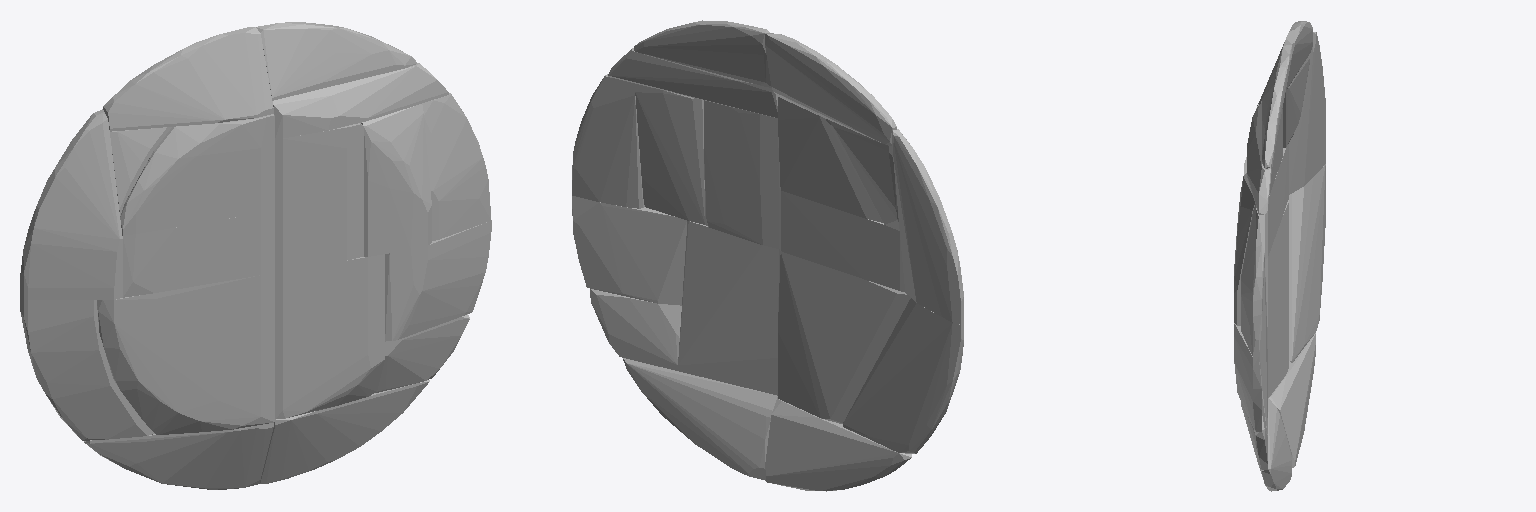
The robot description file, URDF, robot "root":
<robot name="root">
  <link name="link_ycb~dinner_plate_convex_piece_0">
    <inertial>
      <origin rpy="0 0 0" xyz="0 0 0"/>
      <mass value="2.18E-02"/>
      <inertia ixx="1.47E-04" ixy="-5.38E-06" ixz="4.67E-05" iyy="1.69E-04" iyz="-1.16E-05" izz="2.44E-05"/>
    </inertial>
    <visual>
      <origin rpy="0 0 0" xyz="0 0 0"/>
      <geometry>
        <mesh filename="ycb~dinner_plate_convex_piece_0.obj" scale="1.0000E+00 1.0000E+00 1.0000E+00"/>
      </geometry>
      <material name="">
        <color rgba="7.50E-01 7.50E-01 7.50E-01 1"/>
      </material>
    </visual>
    <collision>
      <origin rpy="0 0 0" xyz="0 0 0"/>
      <geometry>
        <mesh filename="ycb~dinner_plate_convex_piece_0.obj" scale="1.0000E+00 1.0000E+00 1.0000E+00"/>
      </geometry>
    </collision>
  </link>
  <link name="link_ycb~dinner_plate_convex_piece_1">
    <inertial>
      <origin rpy="0 0 0" xyz="0 0 0"/>
      <mass value="2.12E-02"/>
      <inertia ixx="1.41E-04" ixy="-1.43E-06" ixz="-5.04E-05" iyy="1.66E-04" iyz="2.51E-06" izz="2.61E-05"/>
    </inertial>
    <visual>
      <origin rpy="0 0 0" xyz="0 0 0"/>
      <geometry>
        <mesh filename="ycb~dinner_plate_convex_piece_1.obj" scale="1.0000E+00 1.0000E+00 1.0000E+00"/>
      </geometry>
      <material name="">
        <color rgba="7.50E-01 7.50E-01 7.50E-01 1"/>
      </material>
    </visual>
    <collision>
      <origin rpy="0 0 0" xyz="0 0 0"/>
      <geometry>
        <mesh filename="ycb~dinner_plate_convex_piece_1.obj" scale="1.0000E+00 1.0000E+00 1.0000E+00"/>
      </geometry>
    </collision>
  </link>
  <joint name="link_ycb~dinner_plate_convex_piece_1_joint" type="fixed">
    <origin rpy="0 0 0" xyz="0 0 0"/>
    <parent link="link_ycb~dinner_plate_convex_piece_0"/>
    <child link="link_ycb~dinner_plate_convex_piece_1"/>
  </joint>
  <link name="link_ycb~dinner_plate_convex_piece_2">
    <inertial>
      <origin rpy="0 0 0" xyz="0 0 0"/>
      <mass value="2.62E-02"/>
      <inertia ixx="4.08E-05" ixy="-2.86E-05" ixz="-6.51E-05" iyy="2.06E-04" iyz="1.18E-05" izz="1.75E-04"/>
    </inertial>
    <visual>
      <origin rpy="0 0 0" xyz="0 0 0"/>
      <geometry>
        <mesh filename="ycb~dinner_plate_convex_piece_2.obj" scale="1.0000E+00 1.0000E+00 1.0000E+00"/>
      </geometry>
      <material name="">
        <color rgba="7.50E-01 7.50E-01 7.50E-01 1"/>
      </material>
    </visual>
    <collision>
      <origin rpy="0 0 0" xyz="0 0 0"/>
      <geometry>
        <mesh filename="ycb~dinner_plate_convex_piece_2.obj" scale="1.0000E+00 1.0000E+00 1.0000E+00"/>
      </geometry>
    </collision>
  </link>
  <joint name="link_ycb~dinner_plate_convex_piece_2_joint" type="fixed">
    <origin rpy="0 0 0" xyz="0 0 0"/>
    <parent link="link_ycb~dinner_plate_convex_piece_1"/>
    <child link="link_ycb~dinner_plate_convex_piece_2"/>
  </joint>
  <link name="link_ycb~dinner_plate_convex_piece_3">
    <inertial>
      <origin rpy="0 0 0" xyz="0 0 0"/>
      <mass value="5.39E-02"/>
      <inertia ixx="7.76E-05" ixy="-1.19E-06" ixz="5.06E-05" iyy="1.48E-04" iyz="1.86E-06" izz="7.14E-05"/>
    </inertial>
    <visual>
      <origin rpy="0 0 0" xyz="0 0 0"/>
      <geometry>
        <mesh filename="ycb~dinner_plate_convex_piece_3.obj" scale="1.0000E+00 1.0000E+00 1.0000E+00"/>
      </geometry>
      <material name="">
        <color rgba="7.50E-01 7.50E-01 7.50E-01 1"/>
      </material>
    </visual>
    <collision>
      <origin rpy="0 0 0" xyz="0 0 0"/>
      <geometry>
        <mesh filename="ycb~dinner_plate_convex_piece_3.obj" scale="1.0000E+00 1.0000E+00 1.0000E+00"/>
      </geometry>
    </collision>
  </link>
  <joint name="link_ycb~dinner_plate_convex_piece_3_joint" type="fixed">
    <origin rpy="0 0 0" xyz="0 0 0"/>
    <parent link="link_ycb~dinner_plate_convex_piece_2"/>
    <child link="link_ycb~dinner_plate_convex_piece_3"/>
  </joint>
  <link name="link_ycb~dinner_plate_convex_piece_4">
    <inertial>
      <origin rpy="0 0 0" xyz="0 0 0"/>
      <mass value="2.97E-02"/>
      <inertia ixx="5.00E-05" ixy="-3.03E-05" ixz="7.08E-05" iyy="2.14E-04" iyz="-1.27E-05" izz="1.75E-04"/>
    </inertial>
    <visual>
      <origin rpy="0 0 0" xyz="0 0 0"/>
      <geometry>
        <mesh filename="ycb~dinner_plate_convex_piece_4.obj" scale="1.0000E+00 1.0000E+00 1.0000E+00"/>
      </geometry>
      <material name="">
        <color rgba="7.50E-01 7.50E-01 7.50E-01 1"/>
      </material>
    </visual>
    <collision>
      <origin rpy="0 0 0" xyz="0 0 0"/>
      <geometry>
        <mesh filename="ycb~dinner_plate_convex_piece_4.obj" scale="1.0000E+00 1.0000E+00 1.0000E+00"/>
      </geometry>
    </collision>
  </link>
  <joint name="link_ycb~dinner_plate_convex_piece_4_joint" type="fixed">
    <origin rpy="0 0 0" xyz="0 0 0"/>
    <parent link="link_ycb~dinner_plate_convex_piece_3"/>
    <child link="link_ycb~dinner_plate_convex_piece_4"/>
  </joint>
  <link name="link_ycb~dinner_plate_convex_piece_5">
    <inertial>
      <origin rpy="0 0 0" xyz="0 0 0"/>
      <mass value="4.11E-02"/>
      <inertia ixx="6.72E-05" ixy="-1.09E-05" ixz="-3.99E-05" iyy="1.03E-04" iyz="1.25E-05" izz="4.29E-05"/>
    </inertial>
    <visual>
      <origin rpy="0 0 0" xyz="0 0 0"/>
      <geometry>
        <mesh filename="ycb~dinner_plate_convex_piece_5.obj" scale="1.0000E+00 1.0000E+00 1.0000E+00"/>
      </geometry>
      <material name="">
        <color rgba="7.50E-01 7.50E-01 7.50E-01 1"/>
      </material>
    </visual>
    <collision>
      <origin rpy="0 0 0" xyz="0 0 0"/>
      <geometry>
        <mesh filename="ycb~dinner_plate_convex_piece_5.obj" scale="1.0000E+00 1.0000E+00 1.0000E+00"/>
      </geometry>
    </collision>
  </link>
  <joint name="link_ycb~dinner_plate_convex_piece_5_joint" type="fixed">
    <origin rpy="0 0 0" xyz="0 0 0"/>
    <parent link="link_ycb~dinner_plate_convex_piece_4"/>
    <child link="link_ycb~dinner_plate_convex_piece_5"/>
  </joint>
  <link name="link_ycb~dinner_plate_convex_piece_6">
    <inertial>
      <origin rpy="0 0 0" xyz="0 0 0"/>
      <mass value="2.08E-02"/>
      <inertia ixx="1.59E-04" ixy="-4.57E-06" ixz="-4.62E-05" iyy="1.78E-04" iyz="1.12E-05" izz="2.15E-05"/>
    </inertial>
    <visual>
      <origin rpy="0 0 0" xyz="0 0 0"/>
      <geometry>
        <mesh filename="ycb~dinner_plate_convex_piece_6.obj" scale="1.0000E+00 1.0000E+00 1.0000E+00"/>
      </geometry>
      <material name="">
        <color rgba="7.50E-01 7.50E-01 7.50E-01 1"/>
      </material>
    </visual>
    <collision>
      <origin rpy="0 0 0" xyz="0 0 0"/>
      <geometry>
        <mesh filename="ycb~dinner_plate_convex_piece_6.obj" scale="1.0000E+00 1.0000E+00 1.0000E+00"/>
      </geometry>
    </collision>
  </link>
  <joint name="link_ycb~dinner_plate_convex_piece_6_joint" type="fixed">
    <origin rpy="0 0 0" xyz="0 0 0"/>
    <parent link="link_ycb~dinner_plate_convex_piece_5"/>
    <child link="link_ycb~dinner_plate_convex_piece_6"/>
  </joint>
  <link name="link_ycb~dinner_plate_convex_piece_7">
    <inertial>
      <origin rpy="0 0 0" xyz="0 0 0"/>
      <mass value="2.24E-02"/>
      <inertia ixx="3.16E-05" ixy="-5.01E-06" ixz="1.57E-05" iyy="4.32E-05" iyz="-6.66E-06" izz="1.55E-05"/>
    </inertial>
    <visual>
      <origin rpy="0 0 0" xyz="0 0 0"/>
      <geometry>
        <mesh filename="ycb~dinner_plate_convex_piece_7.obj" scale="1.0000E+00 1.0000E+00 1.0000E+00"/>
      </geometry>
      <material name="">
        <color rgba="7.50E-01 7.50E-01 7.50E-01 1"/>
      </material>
    </visual>
    <collision>
      <origin rpy="0 0 0" xyz="0 0 0"/>
      <geometry>
        <mesh filename="ycb~dinner_plate_convex_piece_7.obj" scale="1.0000E+00 1.0000E+00 1.0000E+00"/>
      </geometry>
    </collision>
  </link>
  <joint name="link_ycb~dinner_plate_convex_piece_7_joint" type="fixed">
    <origin rpy="0 0 0" xyz="0 0 0"/>
    <parent link="link_ycb~dinner_plate_convex_piece_6"/>
    <child link="link_ycb~dinner_plate_convex_piece_7"/>
  </joint>
  <link name="link_ycb~dinner_plate_convex_piece_8">
    <inertial>
      <origin rpy="0 0 0" xyz="0 0 0"/>
      <mass value="1.45E-02"/>
      <inertia ixx="7.18E-05" ixy="-3.48E-06" ixz="3.93E-05" iyy="9.97E-05" iyz="-6.27E-06" izz="2.91E-05"/>
    </inertial>
    <visual>
      <origin rpy="0 0 0" xyz="0 0 0"/>
      <geometry>
        <mesh filename="ycb~dinner_plate_convex_piece_8.obj" scale="1.0000E+00 1.0000E+00 1.0000E+00"/>
      </geometry>
      <material name="">
        <color rgba="7.50E-01 7.50E-01 7.50E-01 1"/>
      </material>
    </visual>
    <collision>
      <origin rpy="0 0 0" xyz="0 0 0"/>
      <geometry>
        <mesh filename="ycb~dinner_plate_convex_piece_8.obj" scale="1.0000E+00 1.0000E+00 1.0000E+00"/>
      </geometry>
    </collision>
  </link>
  <joint name="link_ycb~dinner_plate_convex_piece_8_joint" type="fixed">
    <origin rpy="0 0 0" xyz="0 0 0"/>
    <parent link="link_ycb~dinner_plate_convex_piece_7"/>
    <child link="link_ycb~dinner_plate_convex_piece_8"/>
  </joint>
  <link name="link_ycb~dinner_plate_convex_piece_9">
    <inertial>
      <origin rpy="0 0 0" xyz="0 0 0"/>
      <mass value="1.35E-02"/>
      <inertia ixx="1.10E-04" ixy="-4.14E-07" ixz="3.32E-05" iyy="1.24E-04" iyz="-1.78E-07" izz="1.43E-05"/>
    </inertial>
    <visual>
      <origin rpy="0 0 0" xyz="0 0 0"/>
      <geometry>
        <mesh filename="ycb~dinner_plate_convex_piece_9.obj" scale="1.0000E+00 1.0000E+00 1.0000E+00"/>
      </geometry>
      <material name="">
        <color rgba="7.50E-01 7.50E-01 7.50E-01 1"/>
      </material>
    </visual>
    <collision>
      <origin rpy="0 0 0" xyz="0 0 0"/>
      <geometry>
        <mesh filename="ycb~dinner_plate_convex_piece_9.obj" scale="1.0000E+00 1.0000E+00 1.0000E+00"/>
      </geometry>
    </collision>
  </link>
  <joint name="link_ycb~dinner_plate_convex_piece_9_joint" type="fixed">
    <origin rpy="0 0 0" xyz="0 0 0"/>
    <parent link="link_ycb~dinner_plate_convex_piece_8"/>
    <child link="link_ycb~dinner_plate_convex_piece_9"/>
  </joint>
  <link name="link_ycb~dinner_plate_convex_piece_10">
    <inertial>
      <origin rpy="0 0 0" xyz="0 0 0"/>
      <mass value="1.01E-02"/>
      <inertia ixx="2.85E-05" ixy="-5.69E-06" ixz="-3.63E-05" iyy="7.78E-05" iyz="4.32E-06" izz="5.06E-05"/>
    </inertial>
    <visual>
      <origin rpy="0 0 0" xyz="0 0 0"/>
      <geometry>
        <mesh filename="ycb~dinner_plate_convex_piece_10.obj" scale="1.0000E+00 1.0000E+00 1.0000E+00"/>
      </geometry>
      <material name="">
        <color rgba="7.50E-01 7.50E-01 7.50E-01 1"/>
      </material>
    </visual>
    <collision>
      <origin rpy="0 0 0" xyz="0 0 0"/>
      <geometry>
        <mesh filename="ycb~dinner_plate_convex_piece_10.obj" scale="1.0000E+00 1.0000E+00 1.0000E+00"/>
      </geometry>
    </collision>
  </link>
  <joint name="link_ycb~dinner_plate_convex_piece_10_joint" type="fixed">
    <origin rpy="0 0 0" xyz="0 0 0"/>
    <parent link="link_ycb~dinner_plate_convex_piece_9"/>
    <child link="link_ycb~dinner_plate_convex_piece_10"/>
  </joint>
  <link name="link_ycb~dinner_plate_convex_piece_11">
    <inertial>
      <origin rpy="0 0 0" xyz="0 0 0"/>
      <mass value="2.28E-02"/>
      <inertia ixx="1.41E-05" ixy="-1.97E-05" ixz="-3.16E-05" iyy="1.43E-04" iyz="5.07E-06" izz="1.35E-04"/>
    </inertial>
    <visual>
      <origin rpy="0 0 0" xyz="0 0 0"/>
      <geometry>
        <mesh filename="ycb~dinner_plate_convex_piece_11.obj" scale="1.0000E+00 1.0000E+00 1.0000E+00"/>
      </geometry>
      <material name="">
        <color rgba="7.50E-01 7.50E-01 7.50E-01 1"/>
      </material>
    </visual>
    <collision>
      <origin rpy="0 0 0" xyz="0 0 0"/>
      <geometry>
        <mesh filename="ycb~dinner_plate_convex_piece_11.obj" scale="1.0000E+00 1.0000E+00 1.0000E+00"/>
      </geometry>
    </collision>
  </link>
  <joint name="link_ycb~dinner_plate_convex_piece_11_joint" type="fixed">
    <origin rpy="0 0 0" xyz="0 0 0"/>
    <parent link="link_ycb~dinner_plate_convex_piece_10"/>
    <child link="link_ycb~dinner_plate_convex_piece_11"/>
  </joint>
  <link name="link_ycb~dinner_plate_convex_piece_12">
    <inertial>
      <origin rpy="0 0 0" xyz="0 0 0"/>
      <mass value="1.87E-02"/>
      <inertia ixx="5.69E-06" ixy="4.35E-08" ixz="-9.34E-06" iyy="3.23E-05" iyz="-3.72E-07" izz="2.68E-05"/>
    </inertial>
    <visual>
      <origin rpy="0 0 0" xyz="0 0 0"/>
      <geometry>
        <mesh filename="ycb~dinner_plate_convex_piece_12.obj" scale="1.0000E+00 1.0000E+00 1.0000E+00"/>
      </geometry>
      <material name="">
        <color rgba="7.50E-01 7.50E-01 7.50E-01 1"/>
      </material>
    </visual>
    <collision>
      <origin rpy="0 0 0" xyz="0 0 0"/>
      <geometry>
        <mesh filename="ycb~dinner_plate_convex_piece_12.obj" scale="1.0000E+00 1.0000E+00 1.0000E+00"/>
      </geometry>
    </collision>
  </link>
  <joint name="link_ycb~dinner_plate_convex_piece_12_joint" type="fixed">
    <origin rpy="0 0 0" xyz="0 0 0"/>
    <parent link="link_ycb~dinner_plate_convex_piece_11"/>
    <child link="link_ycb~dinner_plate_convex_piece_12"/>
  </joint>
  <link name="link_ycb~dinner_plate_convex_piece_13">
    <inertial>
      <origin rpy="0 0 0" xyz="0 0 0"/>
      <mass value="2.39E-02"/>
      <inertia ixx="3.49E-05" ixy="-1.64E-05" ixz="4.37E-05" iyy="1.11E-04" iyz="-8.53E-06" izz="8.30E-05"/>
    </inertial>
    <visual>
      <origin rpy="0 0 0" xyz="0 0 0"/>
      <geometry>
        <mesh filename="ycb~dinner_plate_convex_piece_13.obj" scale="1.0000E+00 1.0000E+00 1.0000E+00"/>
      </geometry>
      <material name="">
        <color rgba="7.50E-01 7.50E-01 7.50E-01 1"/>
      </material>
    </visual>
    <collision>
      <origin rpy="0 0 0" xyz="0 0 0"/>
      <geometry>
        <mesh filename="ycb~dinner_plate_convex_piece_13.obj" scale="1.0000E+00 1.0000E+00 1.0000E+00"/>
      </geometry>
    </collision>
  </link>
  <joint name="link_ycb~dinner_plate_convex_piece_13_joint" type="fixed">
    <origin rpy="0 0 0" xyz="0 0 0"/>
    <parent link="link_ycb~dinner_plate_convex_piece_12"/>
    <child link="link_ycb~dinner_plate_convex_piece_13"/>
  </joint>
  <link name="link_ycb~dinner_plate_convex_piece_14">
    <inertial>
      <origin rpy="0 0 0" xyz="0 0 0"/>
      <mass value="1.49E-02"/>
      <inertia ixx="1.65E-05" ixy="-1.20E-05" ixz="3.51E-05" iyy="1.26E-04" iyz="-3.56E-06" izz="1.12E-04"/>
    </inertial>
    <visual>
      <origin rpy="0 0 0" xyz="0 0 0"/>
      <geometry>
        <mesh filename="ycb~dinner_plate_convex_piece_14.obj" scale="1.0000E+00 1.0000E+00 1.0000E+00"/>
      </geometry>
      <material name="">
        <color rgba="7.50E-01 7.50E-01 7.50E-01 1"/>
      </material>
    </visual>
    <collision>
      <origin rpy="0 0 0" xyz="0 0 0"/>
      <geometry>
        <mesh filename="ycb~dinner_plate_convex_piece_14.obj" scale="1.0000E+00 1.0000E+00 1.0000E+00"/>
      </geometry>
    </collision>
  </link>
  <joint name="link_ycb~dinner_plate_convex_piece_14_joint" type="fixed">
    <origin rpy="0 0 0" xyz="0 0 0"/>
    <parent link="link_ycb~dinner_plate_convex_piece_13"/>
    <child link="link_ycb~dinner_plate_convex_piece_14"/>
  </joint>
  <link name="link_ycb~dinner_plate_convex_piece_15">
    <inertial>
      <origin rpy="0 0 0" xyz="0 0 0"/>
      <mass value="2.57E-02"/>
      <inertia ixx="6.95E-05" ixy="5.81E-07" ixz="-3.24E-05" iyy="9.32E-05" iyz="-2.66E-06" izz="2.40E-05"/>
    </inertial>
    <visual>
      <origin rpy="0 0 0" xyz="0 0 0"/>
      <geometry>
        <mesh filename="ycb~dinner_plate_convex_piece_15.obj" scale="1.0000E+00 1.0000E+00 1.0000E+00"/>
      </geometry>
      <material name="">
        <color rgba="7.50E-01 7.50E-01 7.50E-01 1"/>
      </material>
    </visual>
    <collision>
      <origin rpy="0 0 0" xyz="0 0 0"/>
      <geometry>
        <mesh filename="ycb~dinner_plate_convex_piece_15.obj" scale="1.0000E+00 1.0000E+00 1.0000E+00"/>
      </geometry>
    </collision>
  </link>
  <joint name="link_ycb~dinner_plate_convex_piece_15_joint" type="fixed">
    <origin rpy="0 0 0" xyz="0 0 0"/>
    <parent link="link_ycb~dinner_plate_convex_piece_14"/>
    <child link="link_ycb~dinner_plate_convex_piece_15"/>
  </joint>
  <link name="link_ycb~dinner_plate_convex_piece_16">
    <inertial>
      <origin rpy="0 0 0" xyz="0 0 0"/>
      <mass value="9.13E-03"/>
      <inertia ixx="3.08E-05" ixy="-3.70E-06" ixz="-2.75E-05" iyy="5.76E-05" iyz="3.93E-06" izz="2.78E-05"/>
    </inertial>
    <visual>
      <origin rpy="0 0 0" xyz="0 0 0"/>
      <geometry>
        <mesh filename="ycb~dinner_plate_convex_piece_16.obj" scale="1.0000E+00 1.0000E+00 1.0000E+00"/>
      </geometry>
      <material name="">
        <color rgba="7.50E-01 7.50E-01 7.50E-01 1"/>
      </material>
    </visual>
    <collision>
      <origin rpy="0 0 0" xyz="0 0 0"/>
      <geometry>
        <mesh filename="ycb~dinner_plate_convex_piece_16.obj" scale="1.0000E+00 1.0000E+00 1.0000E+00"/>
      </geometry>
    </collision>
  </link>
  <joint name="link_ycb~dinner_plate_convex_piece_16_joint" type="fixed">
    <origin rpy="0 0 0" xyz="0 0 0"/>
    <parent link="link_ycb~dinner_plate_convex_piece_15"/>
    <child link="link_ycb~dinner_plate_convex_piece_16"/>
  </joint>
</robot>

--- Facts derived from the render (not from the file) ---
The picture shows the robot from 3 angles, left to right: view 1: azimuth 30°, elevation 25°; view 2: azimuth 150°, elevation 25°; view 3: azimuth 270°, elevation 25°; orthographic projection.
Model root with 17 links and 16 joints (16 fixed), rooted at link_ycb~dinner_plate_convex_piece_0, posed all joints at 0.
Visible links, largest first — view 1: link_ycb~dinner_plate_convex_piece_3, link_ycb~dinner_plate_convex_piece_5, link_ycb~dinner_plate_convex_piece_2, link_ycb~dinner_plate_convex_piece_15, link_ycb~dinner_plate_convex_piece_7, link_ycb~dinner_plate_convex_piece_6, link_ycb~dinner_plate_convex_piece_4, link_ycb~dinner_plate_convex_piece_12, link_ycb~dinner_plate_convex_piece_13, link_ycb~dinner_plate_convex_piece_11, link_ycb~dinner_plate_convex_piece_0, link_ycb~dinner_plate_convex_piece_9 (+5 smaller); view 2: link_ycb~dinner_plate_convex_piece_3, link_ycb~dinner_plate_convex_piece_5, link_ycb~dinner_plate_convex_piece_4, link_ycb~dinner_plate_convex_piece_11, link_ycb~dinner_plate_convex_piece_7, link_ycb~dinner_plate_convex_piece_1, link_ycb~dinner_plate_convex_piece_0, link_ycb~dinner_plate_convex_piece_2, link_ycb~dinner_plate_convex_piece_13, link_ycb~dinner_plate_convex_piece_12, link_ycb~dinner_plate_convex_piece_14, link_ycb~dinner_plate_convex_piece_6 (+5 smaller); view 3: link_ycb~dinner_plate_convex_piece_4, link_ycb~dinner_plate_convex_piece_2, link_ycb~dinner_plate_convex_piece_3, link_ycb~dinner_plate_convex_piece_0, link_ycb~dinner_plate_convex_piece_14, link_ycb~dinner_plate_convex_piece_9, link_ycb~dinner_plate_convex_piece_11, link_ycb~dinner_plate_convex_piece_1, link_ycb~dinner_plate_convex_piece_8, link_ycb~dinner_plate_convex_piece_13, link_ycb~dinner_plate_convex_piece_12, link_ycb~dinner_plate_convex_piece_16 (+3 smaller).
Boxes of the visible links, x1,y1,x2,y2 form: link_ycb~dinner_plate_convex_piece_3: (97,272,274,434); link_ycb~dinner_plate_convex_piece_5: (275,254,384,418); link_ycb~dinner_plate_convex_piece_2: (20,109,122,299); link_ycb~dinner_plate_convex_piece_15: (120,114,274,235); link_ycb~dinner_plate_convex_piece_7: (275,123,363,271); link_ycb~dinner_plate_convex_piece_6: (103,27,273,131); link_ycb~dinner_plate_convex_piece_4: (20,297,154,440); link_ycb~dinner_plate_convex_piece_12: (123,210,274,297); link_ycb~dinner_plate_convex_piece_13: (361,104,431,256); link_ycb~dinner_plate_convex_piece_11: (385,221,491,341); link_ycb~dinner_plate_convex_piece_0: (84,423,273,489); link_ycb~dinner_plate_convex_piece_9: (256,22,416,100); link_ycb~dinner_plate_convex_piece_3: (778,249,910,423); link_ycb~dinner_plate_convex_piece_5: (678,221,778,395); link_ycb~dinner_plate_convex_piece_4: (843,298,963,453); link_ycb~dinner_plate_convex_piece_11: (572,196,686,305); link_ycb~dinner_plate_convex_piece_7: (704,100,778,248); link_ycb~dinner_plate_convex_piece_1: (623,358,777,479); link_ycb~dinner_plate_convex_piece_0: (765,399,911,491); link_ycb~dinner_plate_convex_piece_2: (892,129,963,324); link_ycb~dinner_plate_convex_piece_13: (635,84,704,224); link_ycb~dinner_plate_convex_piece_12: (779,188,904,291); link_ycb~dinner_plate_convex_piece_14: (572,74,644,208); link_ycb~dinner_plate_convex_piece_6: (765,33,896,145); link_ycb~dinner_plate_convex_piece_4: (1289,164,1325,362); link_ycb~dinner_plate_convex_piece_2: (1289,32,1325,194); link_ycb~dinner_plate_convex_piece_3: (1265,200,1288,397); link_ycb~dinner_plate_convex_piece_0: (1269,333,1315,467); link_ycb~dinner_plate_convex_piece_14: (1241,204,1264,356); link_ycb~dinner_plate_convex_piece_9: (1262,45,1291,168); link_ycb~dinner_plate_convex_piece_11: (1234,323,1261,431); link_ycb~dinner_plate_convex_piece_1: (1259,398,1291,491); link_ycb~dinner_plate_convex_piece_8: (1247,103,1271,214); link_ycb~dinner_plate_convex_piece_13: (1234,173,1254,325); link_ycb~dinner_plate_convex_piece_12: (1265,144,1288,258); link_ycb~dinner_plate_convex_piece_16: (1283,54,1309,147).
Bounding box of the posed robot: 0.2083 × 0.0408 × 0.2097 m (x, y, z).
Meshes: 17 distinct files referenced, 17 mesh visuals loaded (17 OBJ).
